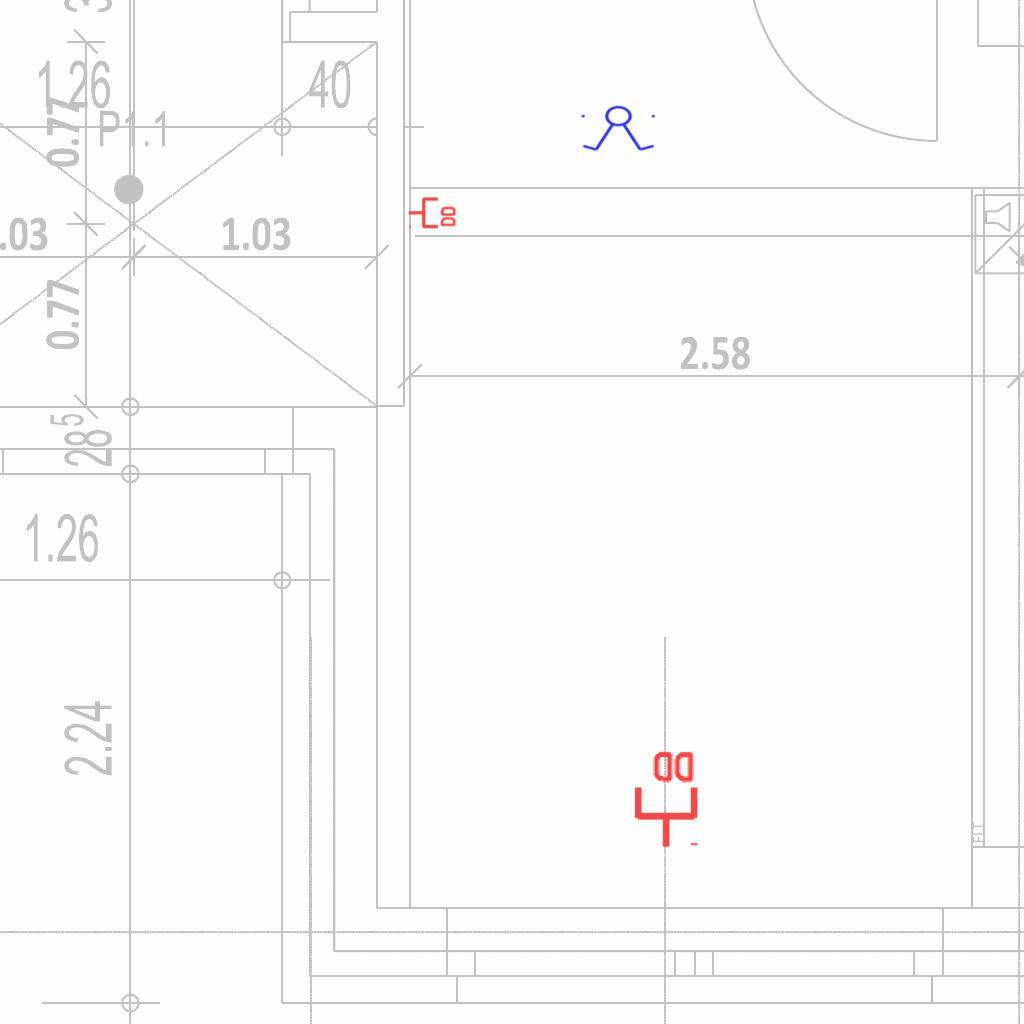Datenanschluss_zweifach: (630, 747, 699, 850), (407, 195, 458, 229)
Serienschalter: (577, 105, 661, 153)
